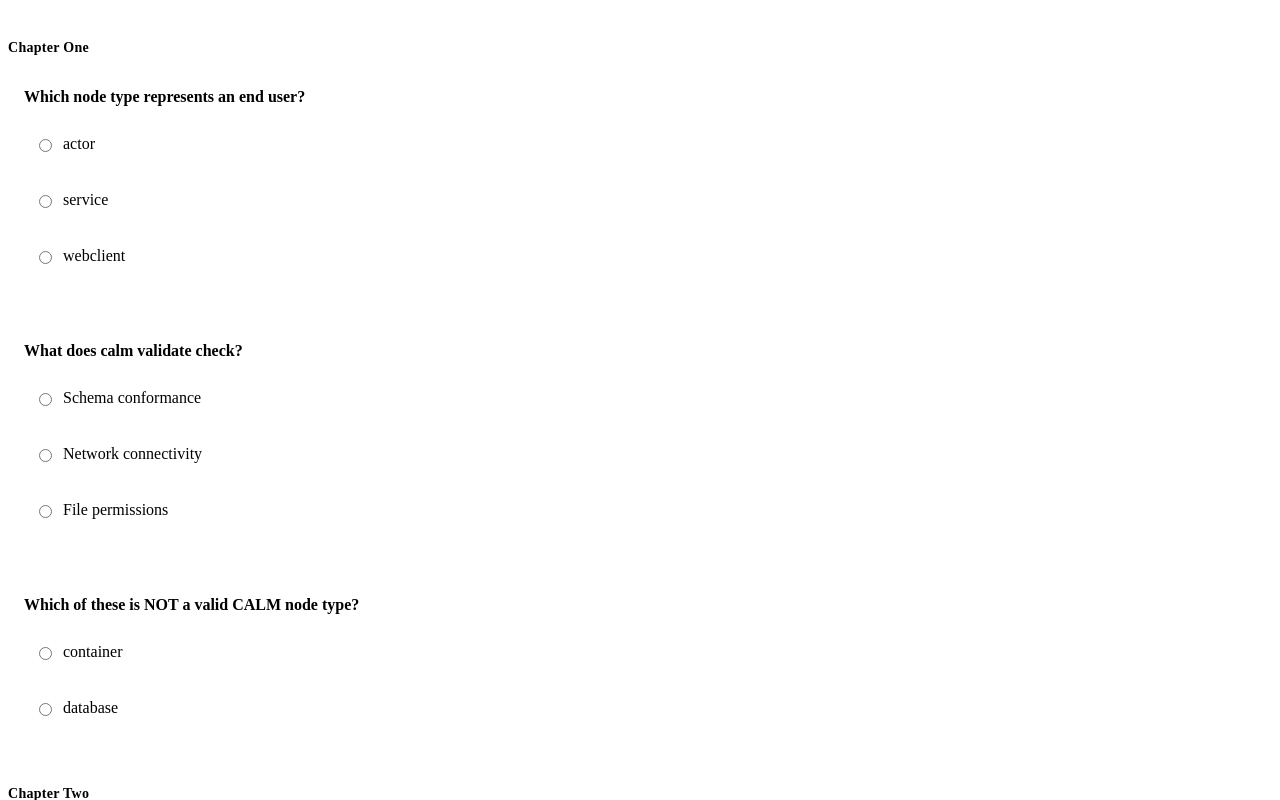
Test case: Quiz › Test 12 (a11y score): Score badge has role="status" and aria-live="polite"
The width and height of the screenshot is (1280, 800).
Note: Submit first
Click the radio button labelled "actor" at coordinates (46, 146), box [39,139,52,152]
(page scrolled)
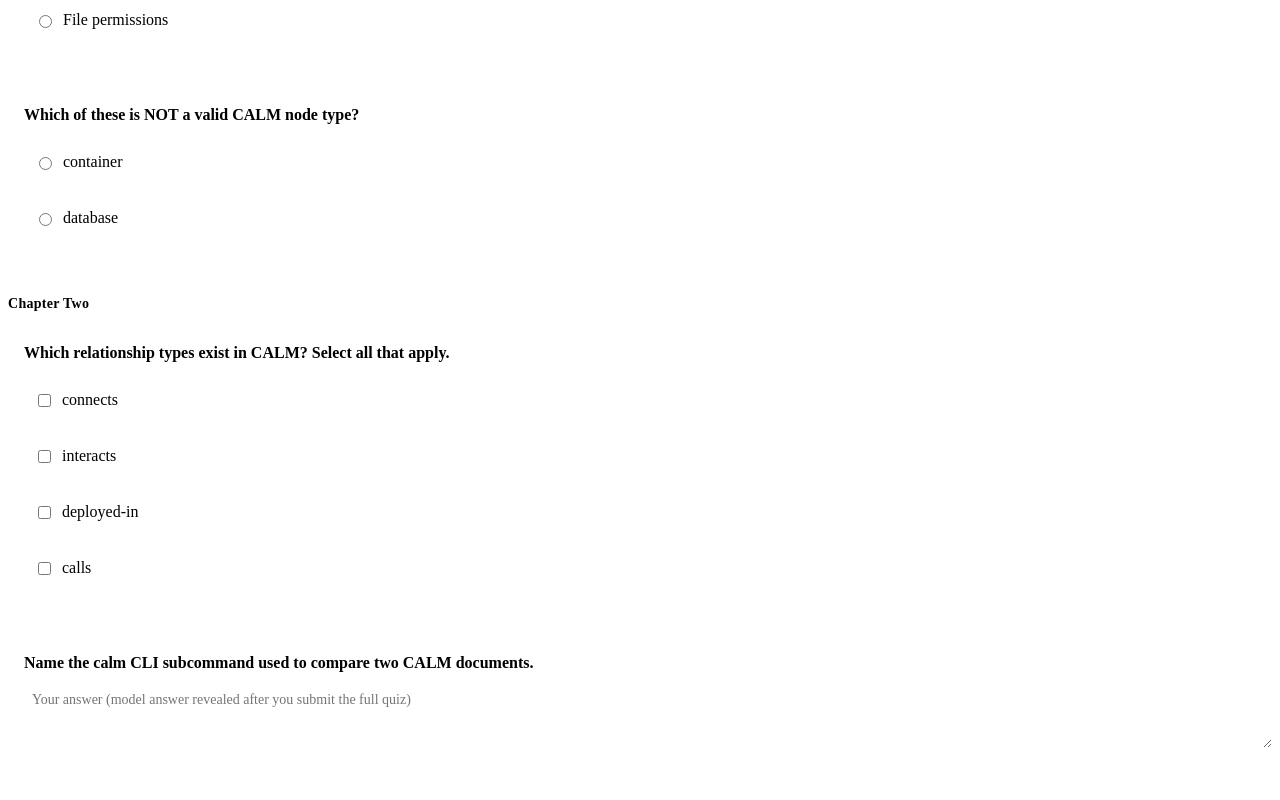
Click the checkbox labelled "connects" at coordinates (44, 400), box [38,394,51,406]
(page scrolled)
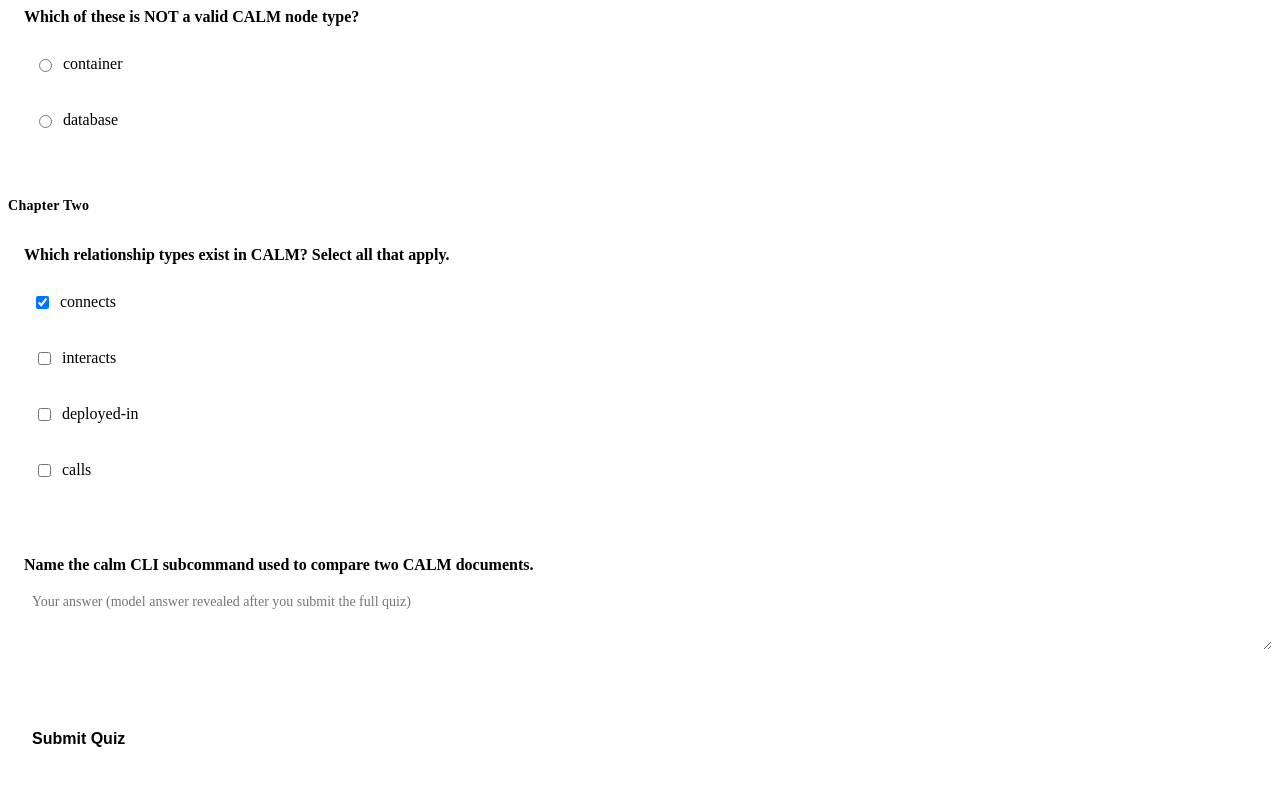
Click the button "Submit Quiz" at coordinates (79, 739), box [8,718,149,760]
(page scrolled)
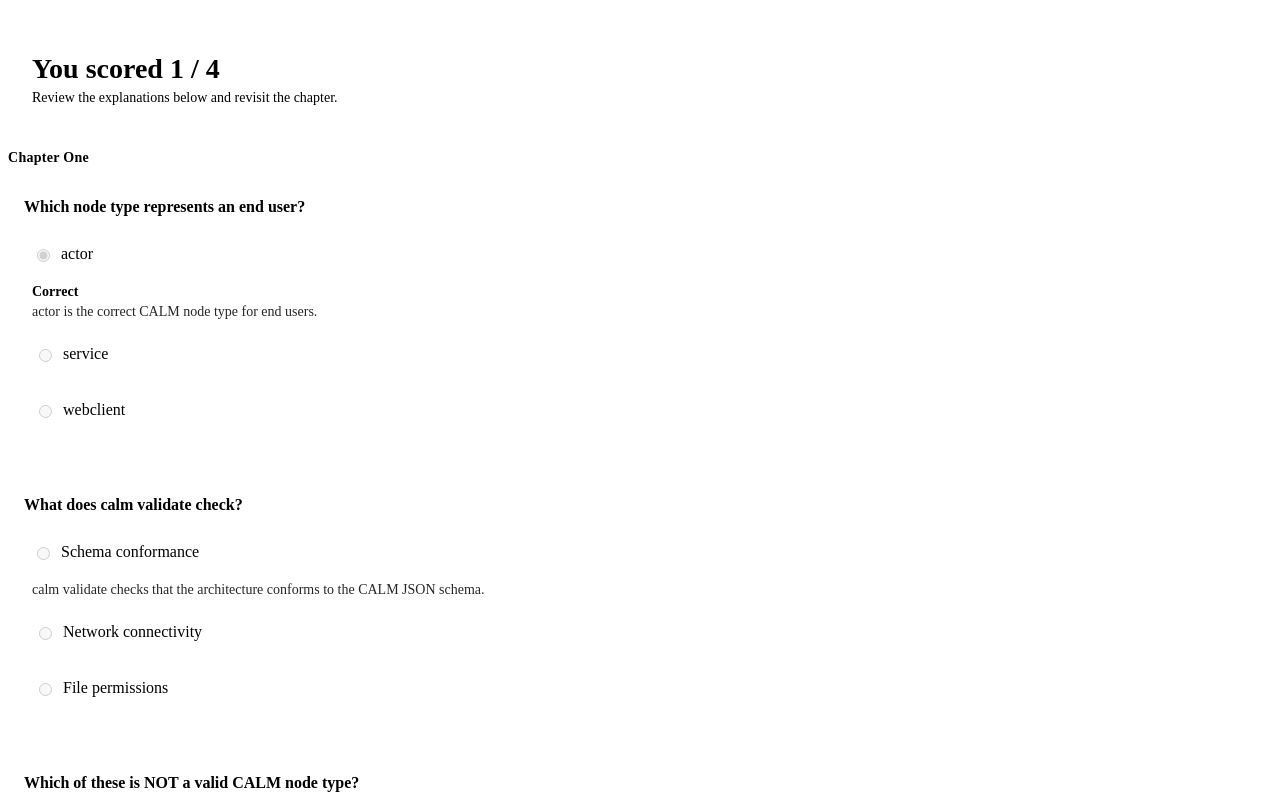
Result: the message "You scored 1 / 4 Review the explanations below and revisit the chapter." is shown at [32,53,338,105]
